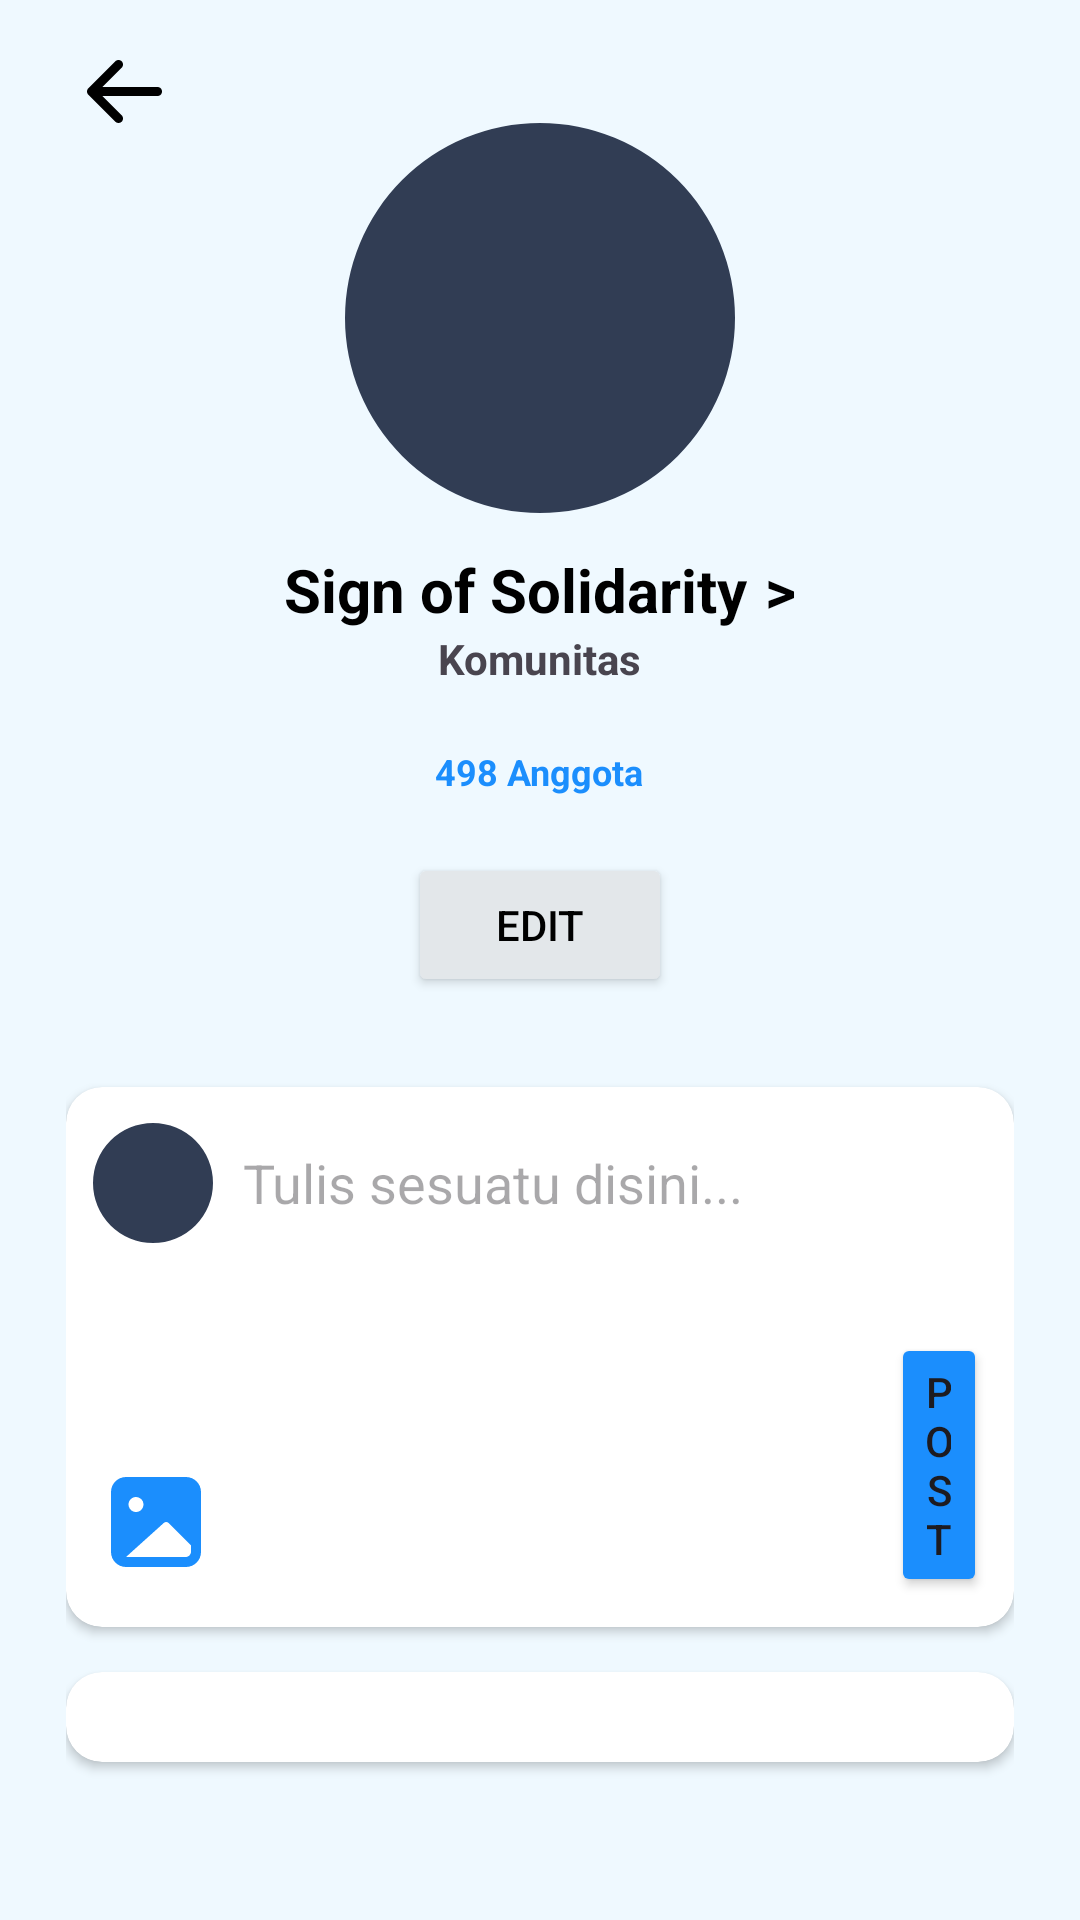

Screen size 1080px×1920px. Icon name, then its center in pixels as (x,y):
back: (124,91)
